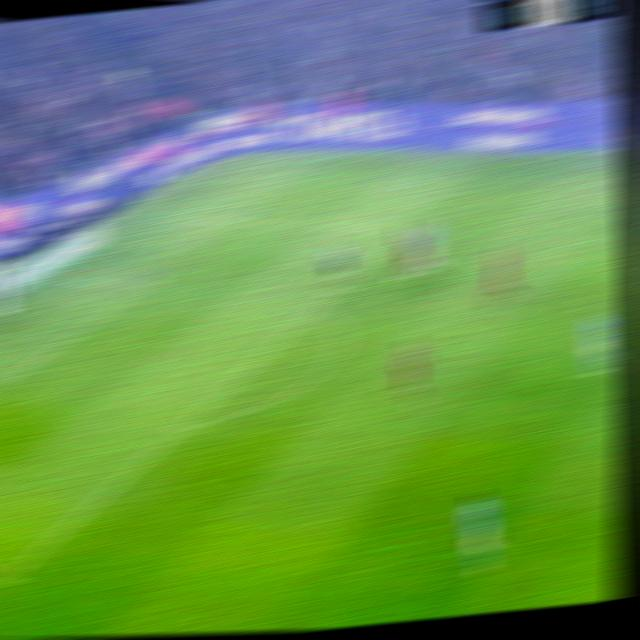bigarea_bottom_inner: (0, 566, 20, 596)
bigarea_top_inner: (394, 220, 421, 239)
bigarea_top_outter: (146, 206, 177, 225)
bottom_arc_area_intersection: (164, 413, 198, 439)
corner: (244, 150, 276, 164)
smallarea_top_inner: (130, 272, 164, 296)
smallarea_top_outter: (45, 267, 80, 288)
top_arc_area_intersection: (303, 297, 333, 317)
